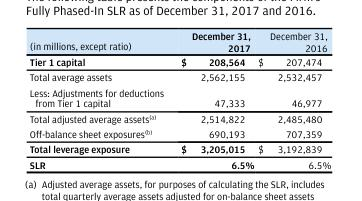table: (28, 29, 330, 169)
table column: (28, 29, 171, 169), (171, 29, 255, 169), (255, 29, 330, 169)
table column header: (28, 29, 330, 54)
table row: (28, 84, 330, 110), (28, 29, 330, 54), (28, 110, 330, 126), (28, 54, 330, 69), (28, 69, 330, 84), (28, 126, 330, 141), (28, 141, 330, 156), (28, 156, 330, 169)
